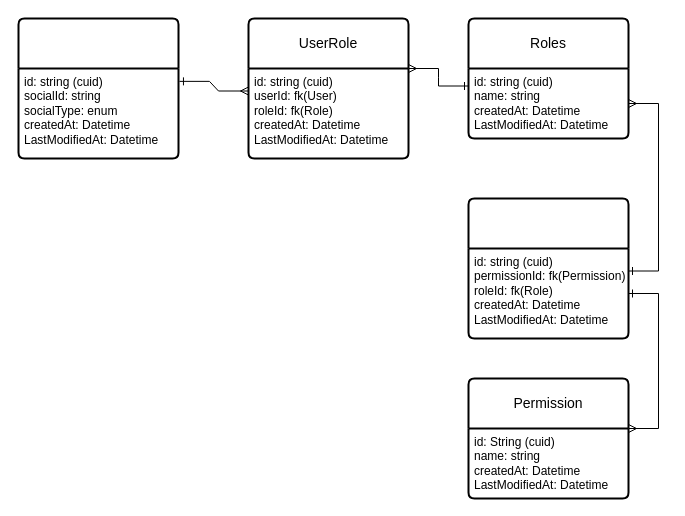
This 685x516 diagram has some shape labels left out. Here are the shapes that lost their labels. From the top down, the box of each, then its label:
(17, 17, 179, 159): User
(467, 197, 629, 339): RolePermission
